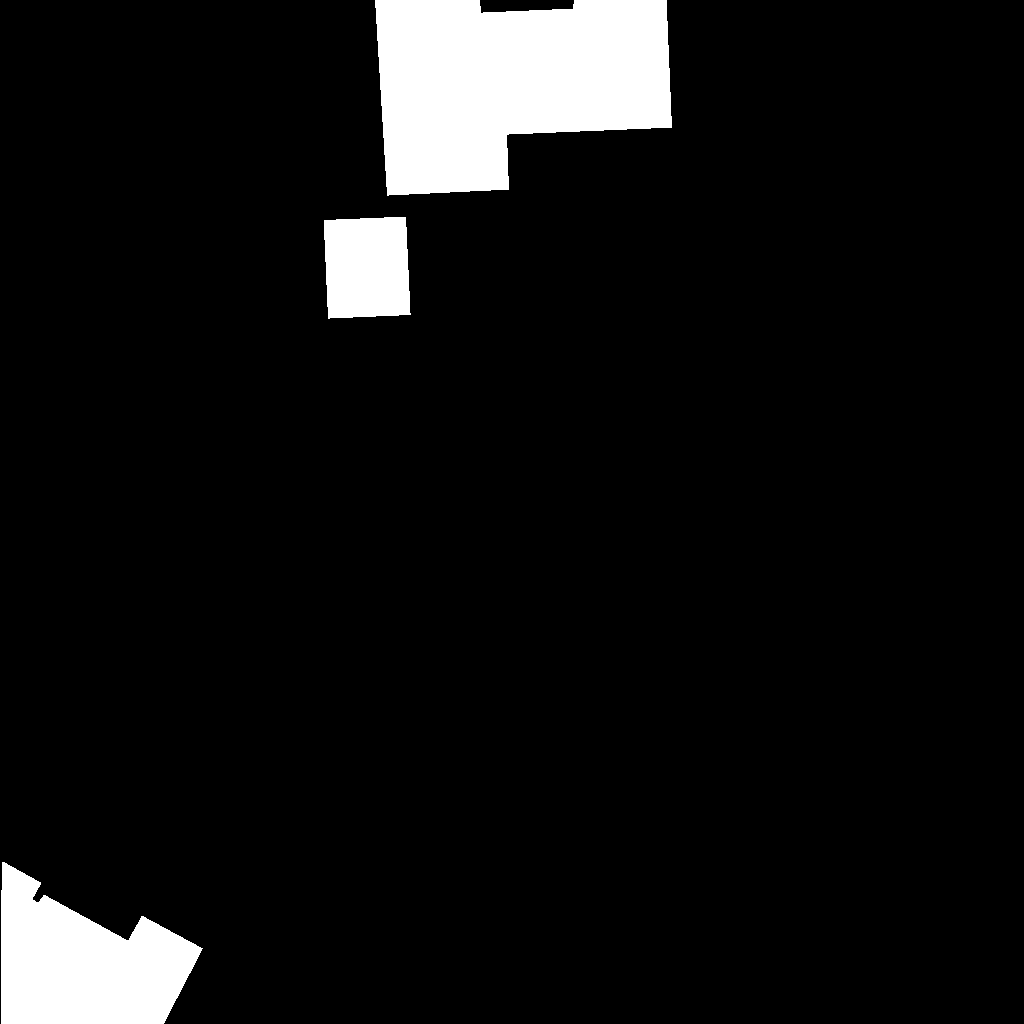building: (375, 0, 673, 196), (0, 862, 204, 1024), (324, 217, 411, 319)
